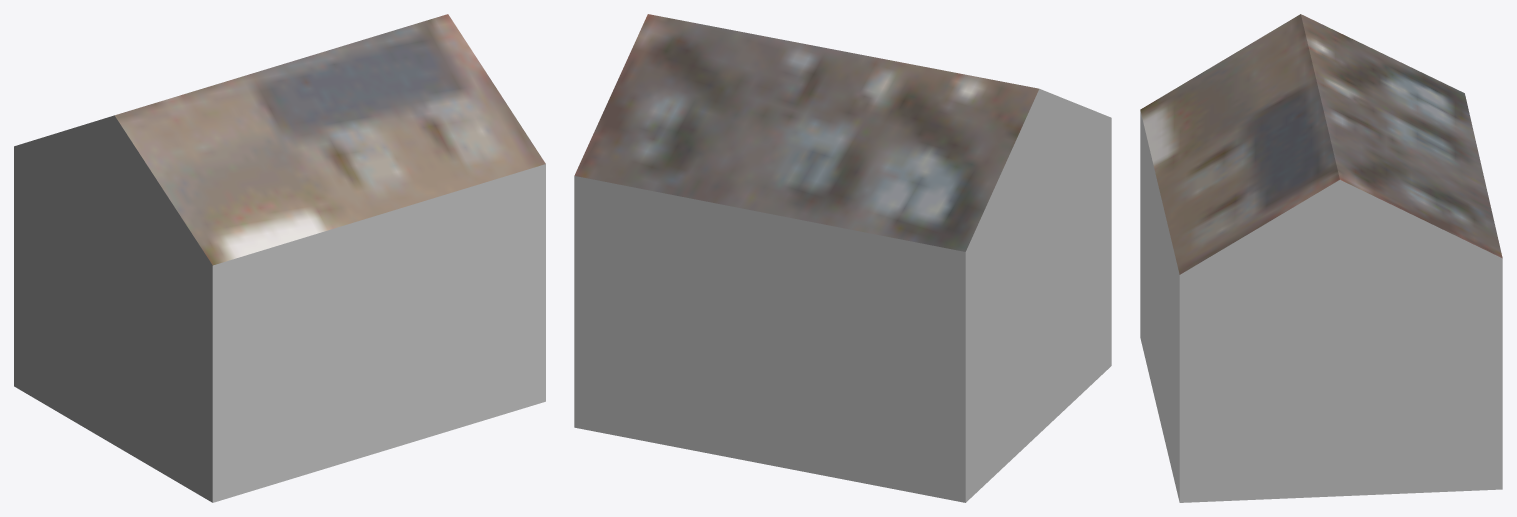
The model's file is DEBW_0010007TxdO.gltf.
3 views of the same model, side by side, from view 1: azimuth 30°, elevation 25°; view 2: azimuth 150°, elevation 25°; view 3: azimuth 270°, elevation 25° (orthographic). The views are drawn at different scales.
Parts seen in each view (by area): view 1: Z_UP; view 2: Z_UP; view 3: Z_UP.
Boxes of the visible parts, <box> form: Z_UP: <box>14,14,545,502</box>; Z_UP: <box>574,14,1111,502</box>; Z_UP: <box>1140,14,1502,502</box>.
Size of the model in its own units: 13.46 by 11.07 by 11.49.
Materials: 2 (1 with a texture image).
